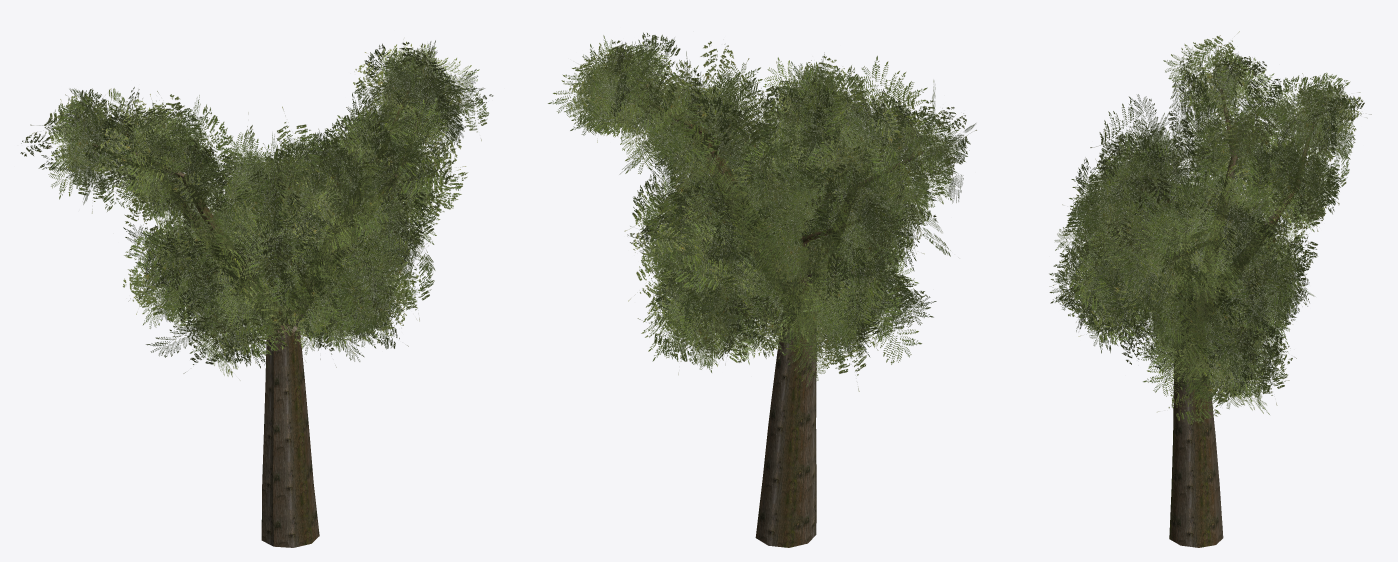
Rendered from olive_1.glb.
The picture shows the model from 3 angles, left to right: view 1: azimuth 30°, elevation 25°; view 2: azimuth 150°, elevation 25°; view 3: azimuth 270°, elevation 25°; orthographic projection. The views are drawn at different scales.
Visible parts, largest first — view 1: olive; view 2: olive; view 3: olive.
Boxes of the visible parts, left/top/right/bottom form: olive: left=20, top=40, right=493, bottom=547; olive: left=548, top=32, right=976, bottom=547; olive: left=1049, top=31, right=1371, bottom=547.
Bounding box in the file's own units: 6.66 × 7.6 × 5.35.
Materials: 2 (2 with a texture image).
